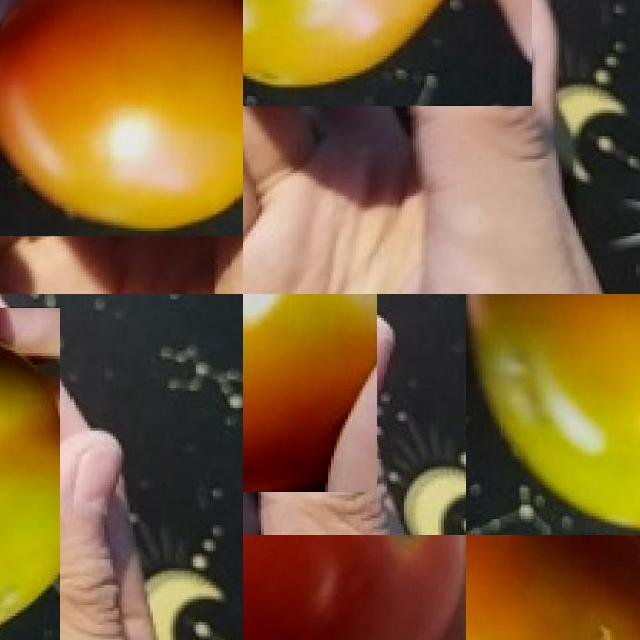Fresh Tomato: (0, 0, 243, 236), (243, 535, 466, 640)
Rotten Tomato: (466, 294, 640, 535), (243, 0, 532, 106), (243, 294, 377, 492), (0, 307, 60, 640), (466, 535, 640, 640)
